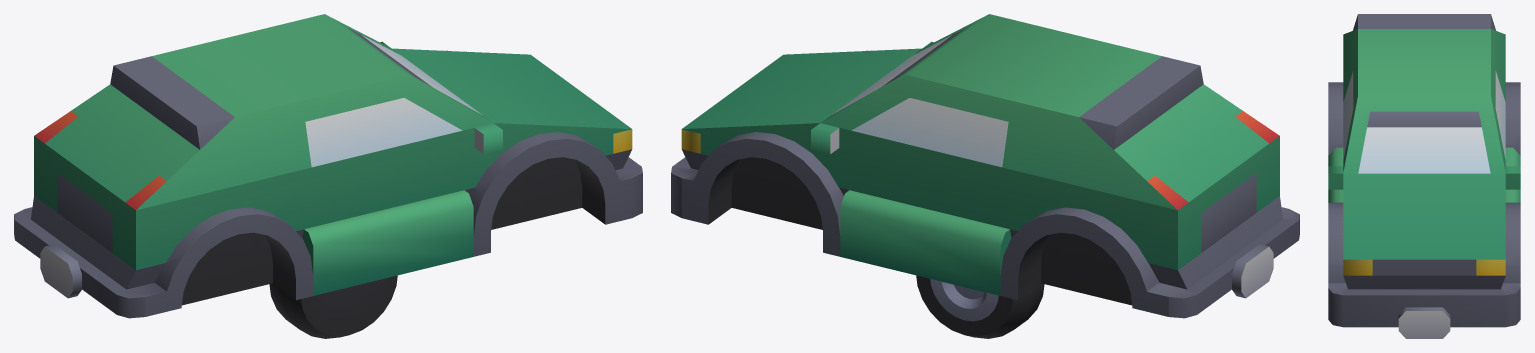
The model's file is hatchback.glb.
3 views of the same model, side by side, from view 1: azimuth 30°, elevation 25°; view 2: azimuth 150°, elevation 25°; view 3: azimuth 270°, elevation 25° (orthographic). The views are drawn at different scales.
Visible parts, largest first — view 1: body, wheel; view 2: body, wheel; view 3: body.
Part boxes in pixels (box(x1,y1,x2,y2)): body: box(14, 14, 642, 318); wheel: box(269, 275, 397, 338); body: box(671, 14, 1299, 318); wheel: box(916, 275, 1044, 338); body: box(1328, 14, 1520, 338).
Bounding box in the file's own units: 3.8 × 1.87 × 1.46.
